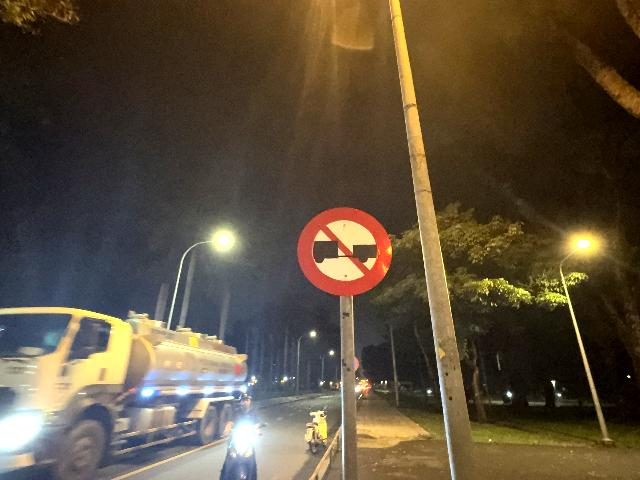cam-xe-somi-romooc: (298, 206, 393, 296)
